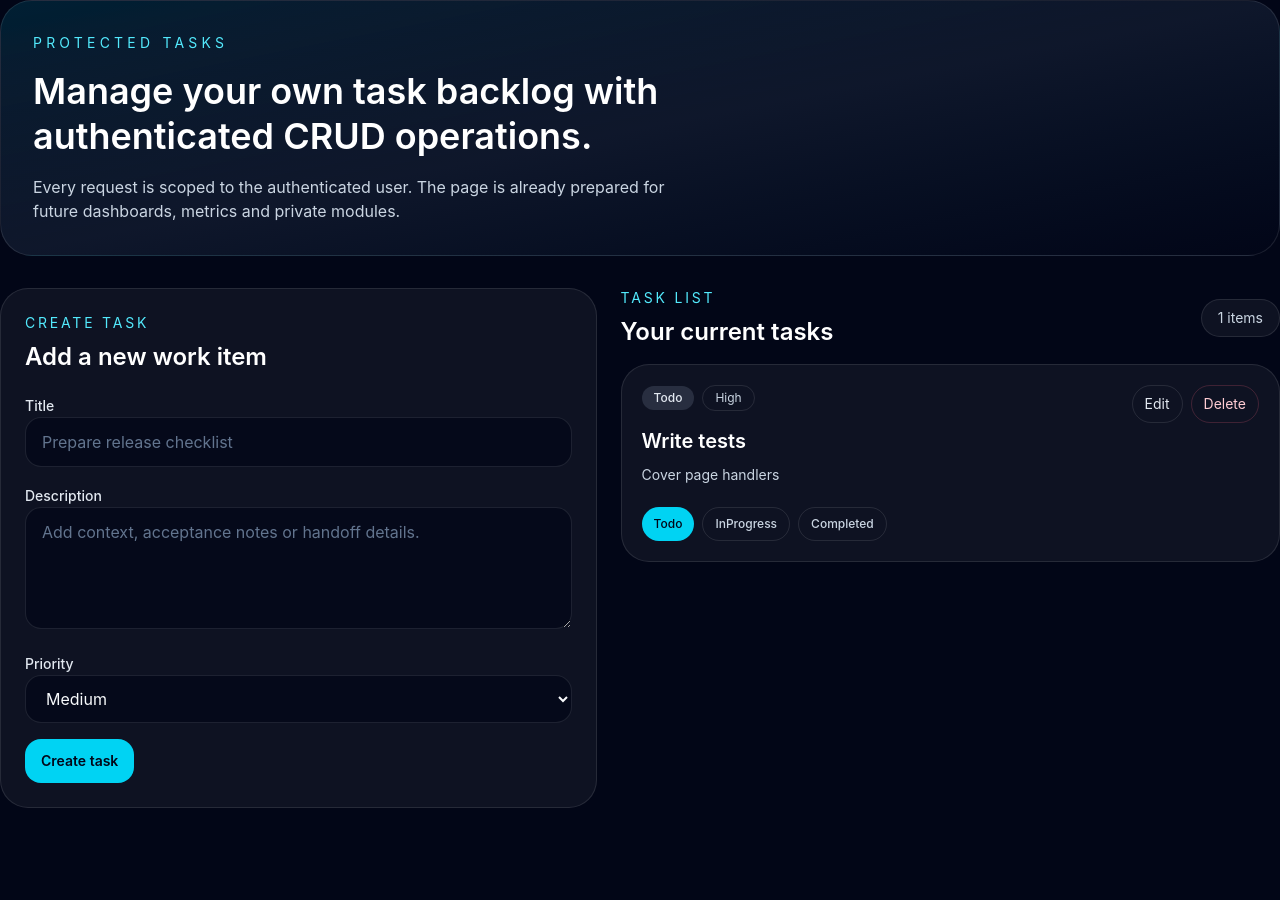
Test: TasksPage › deletes a task and changes status
Click the button "Completed": (842, 524) [798, 507, 887, 541]
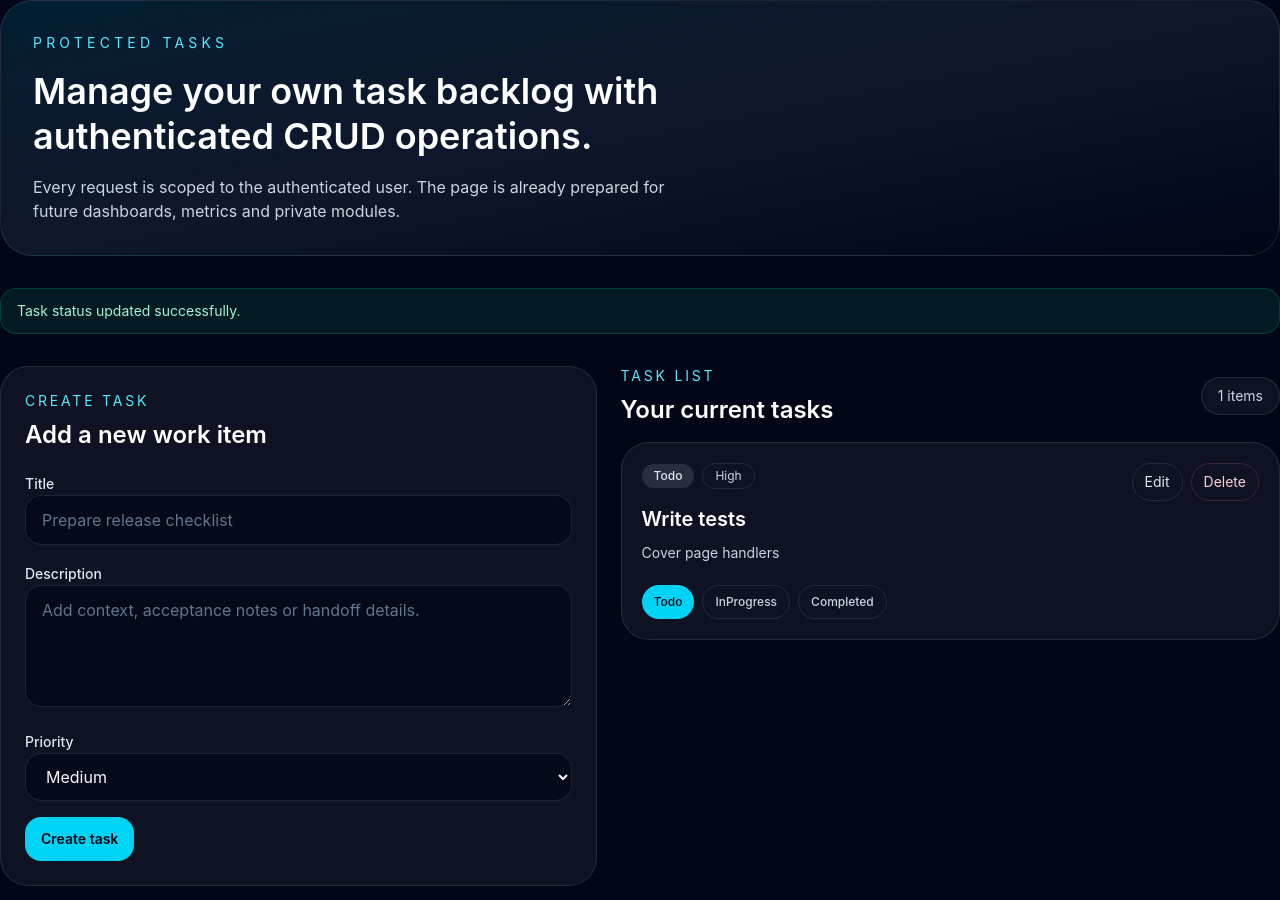
Expected: the text "Task status updated successfully." is shown, [0, 288, 1279, 334]
Click the button "Delete": (1225, 482) [1190, 463, 1259, 501]
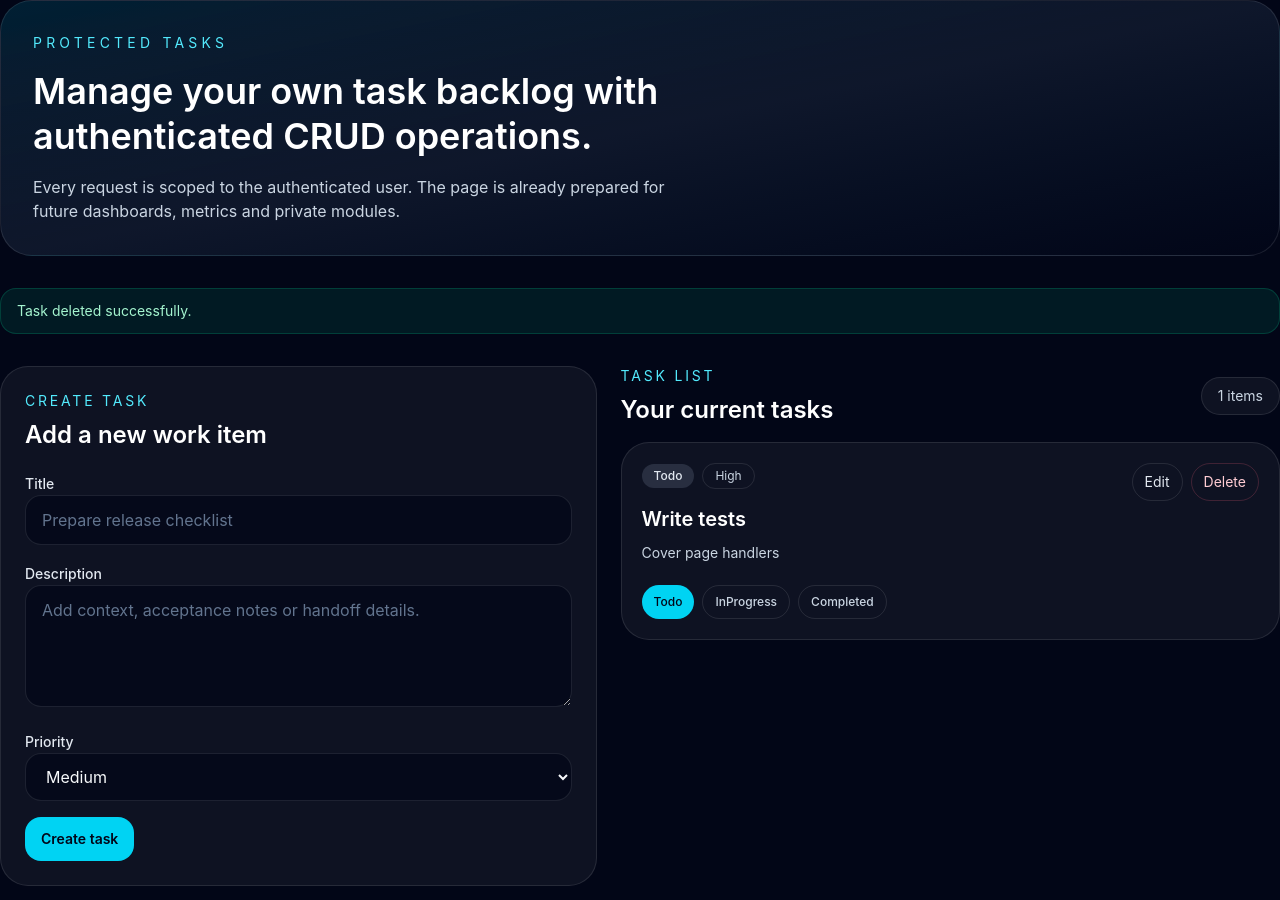
Expected: the text "Task deleted successfully." is shown, [0, 288, 1279, 334]
